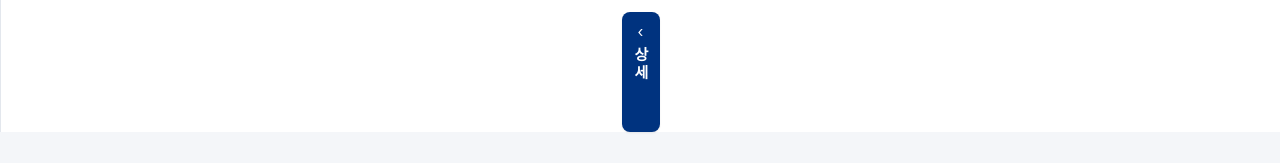
CT-04 DetailPanel › 없는 ?node= → 오른쪽 레일(detail-panel testid 없음), 레일 버튼 → 빈 안내 패널, 오류 없음
Click the button with test id "panel-rail-open": (640, 72) [622,12,660,132]
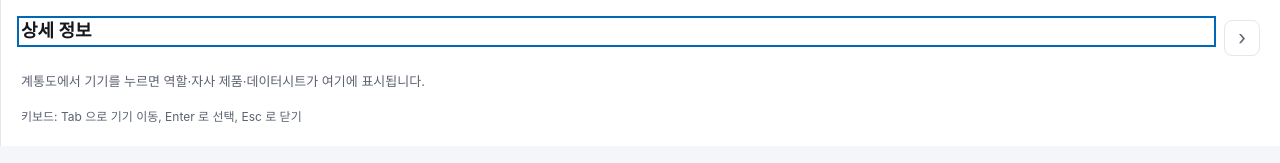
expect the element that starts with "상세 정보" is shown: met, box [21,20,92,41]
